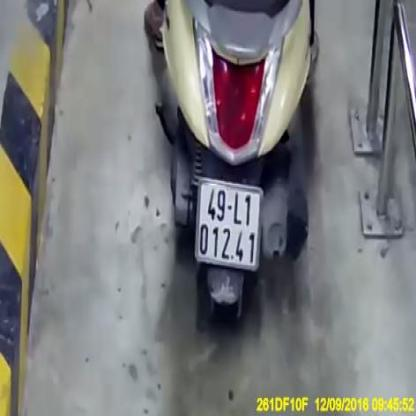Xemay: (193, 176, 264, 272)
